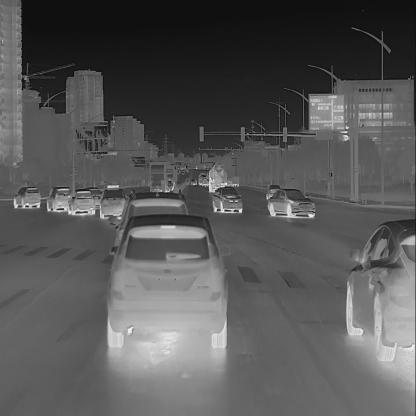car: (103, 210, 228, 354), (342, 217, 415, 361), (110, 188, 195, 271), (266, 186, 318, 218), (99, 184, 126, 220), (211, 187, 244, 214), (68, 188, 96, 216), (45, 184, 72, 212), (12, 184, 41, 209), (88, 187, 104, 206), (265, 183, 280, 199), (164, 178, 174, 192), (226, 177, 233, 186), (190, 178, 197, 186), (201, 178, 208, 186)
truck: (148, 161, 170, 194), (207, 159, 228, 192), (164, 164, 179, 190), (198, 171, 206, 186), (230, 176, 240, 187)
